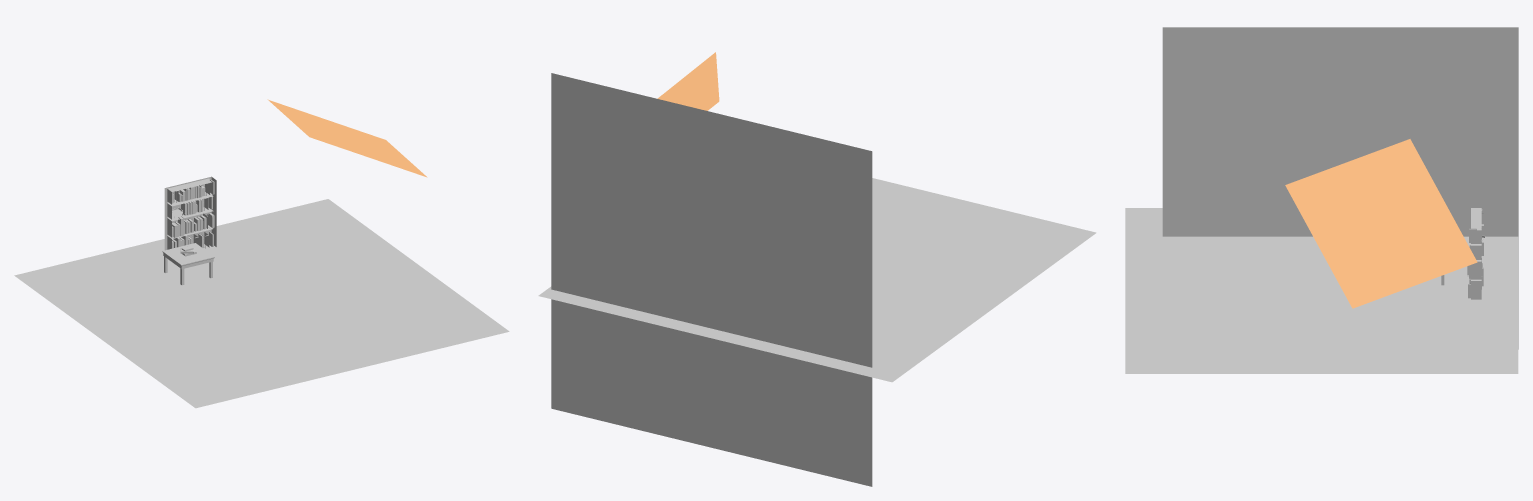
Rendered from table.glb.
The picture shows the model from 3 angles, left to right: view 1: azimuth 30°, elevation 25°; view 2: azimuth 150°, elevation 25°; view 3: azimuth 270°, elevation 25°; orthographic projection. The views are drawn at different scales.
Parts seen in each view (by area): view 1: Floor, bookself, Plane, table; view 2: wall, Floor, Plane; view 3: wall2, Floor, Plane, bookself.
Part boxes in pixels (x1,y1,x2,y2): Floor: [14, 199, 509, 408]; bookself: [164, 176, 216, 250]; Plane: [267, 99, 427, 177]; table: [162, 243, 214, 285]; wall: [551, 73, 872, 486]; Floor: [538, 178, 1096, 382]; Plane: [657, 52, 719, 110]; wall2: [1162, 27, 1518, 349]; Floor: [1125, 208, 1518, 373]; Plane: [1285, 139, 1477, 308]; bookself: [1467, 206, 1484, 303].
Bounding box in the file's own units: 112 × 95.19 × 105.
